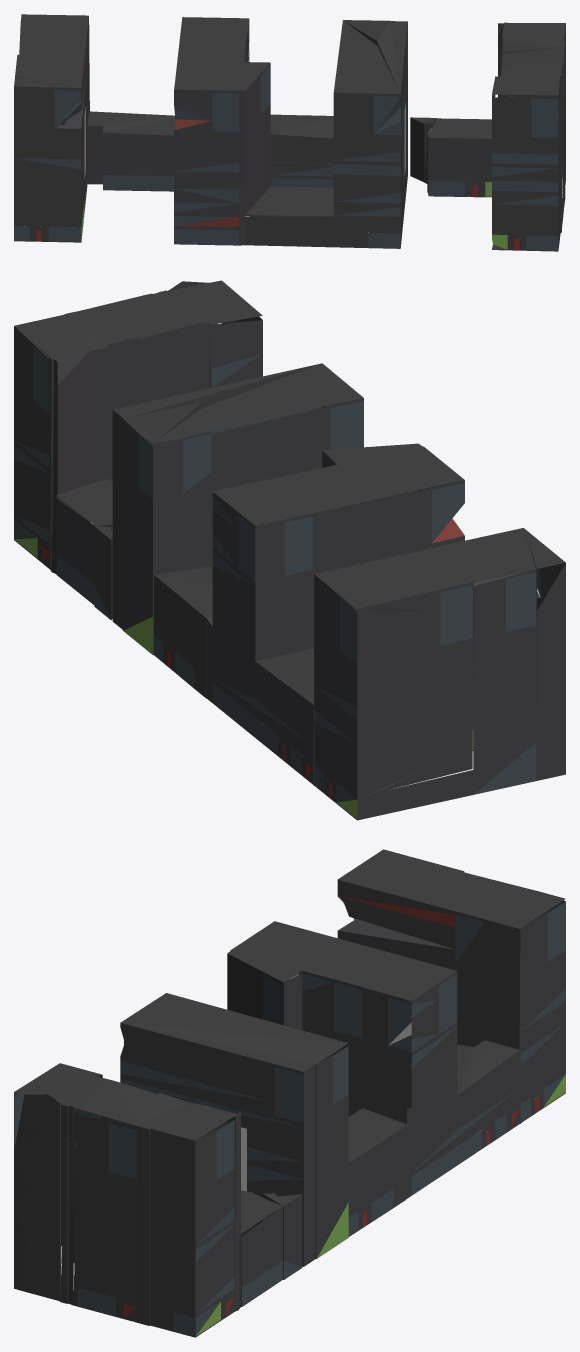
File: albatrospad-1.lod2.glb
The picture shows the model from 3 angles, top to bottom: view 1: azimuth 30°, elevation 25°; view 2: azimuth 150°, elevation 25°; view 3: azimuth 270°, elevation 25°; orthographic projection. The views are drawn at different scales.
Visible parts, largest first — view 1: lod2; view 2: lod2; view 3: lod2.
Boxes of the visible parts, bbox=[...] form: lod2: bbox=[14, 14, 565, 251]; lod2: bbox=[14, 280, 565, 820]; lod2: bbox=[14, 849, 565, 1337].
Bounding box in the file's own units: 106 × 34.22 × 84.05.
